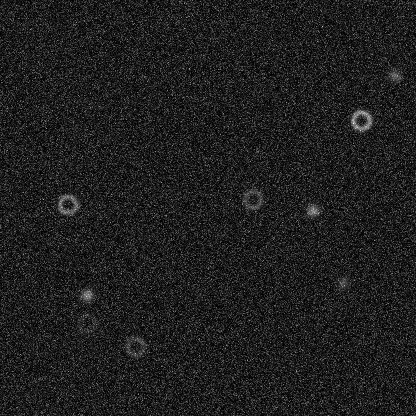Ring: (349, 108, 373, 132), (240, 187, 264, 211), (123, 334, 147, 358), (55, 192, 79, 216), (75, 311, 99, 335)
Spot: (334, 274, 350, 290), (304, 202, 320, 218), (386, 67, 402, 83), (78, 287, 94, 303)
